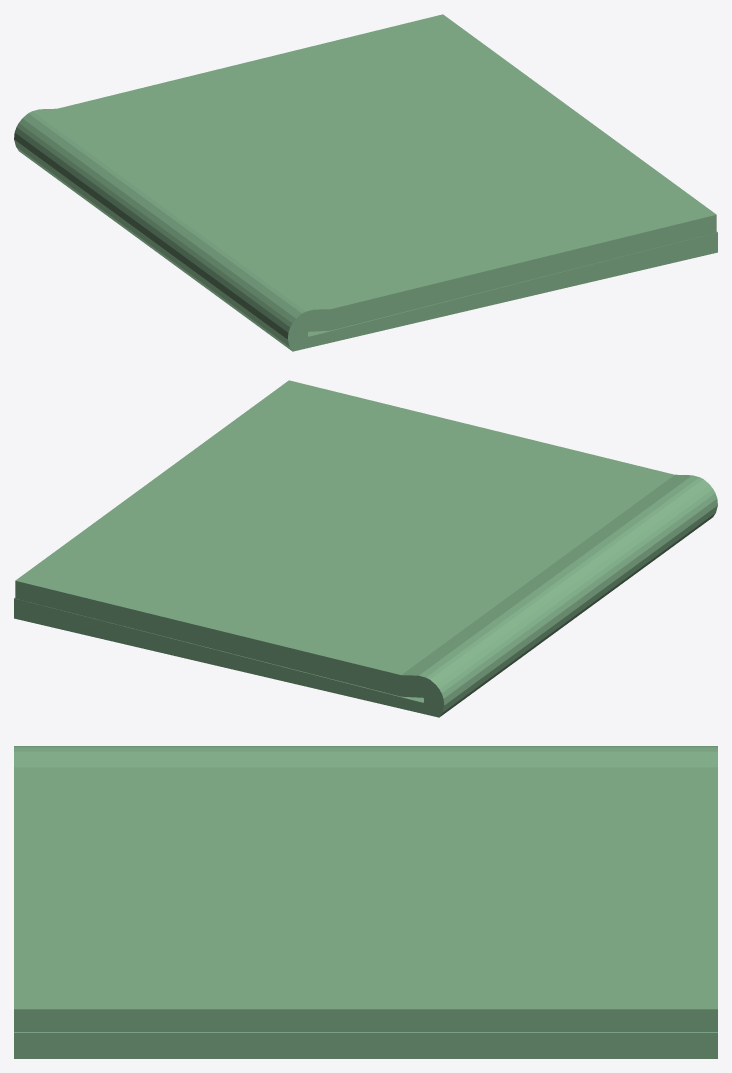
Rendered from rag.fbx.
3 renders of one model, top to bottom at view 1: azimuth 30°, elevation 25°; view 2: azimuth 150°, elevation 25°; view 3: azimuth 270°, elevation 25°, orthographic. The views are drawn at different scales.
Parts seen in each view (by area): view 1: Cube; view 2: Cube; view 3: Cube.
Boxes of the visible parts, bbox=[...] form: Cube: bbox=[14, 14, 717, 351]; Cube: bbox=[14, 380, 717, 717]; Cube: bbox=[14, 746, 717, 1058].
Size of the model in its own units: 1.81 by 0.1677 by 2.
